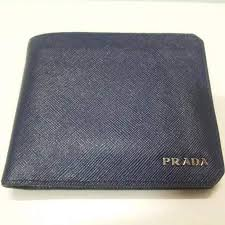monedero: (1, 31, 225, 194)
